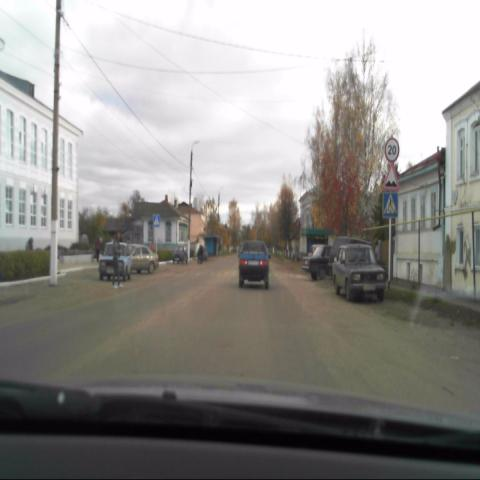1_16: (384, 165, 399, 190)
